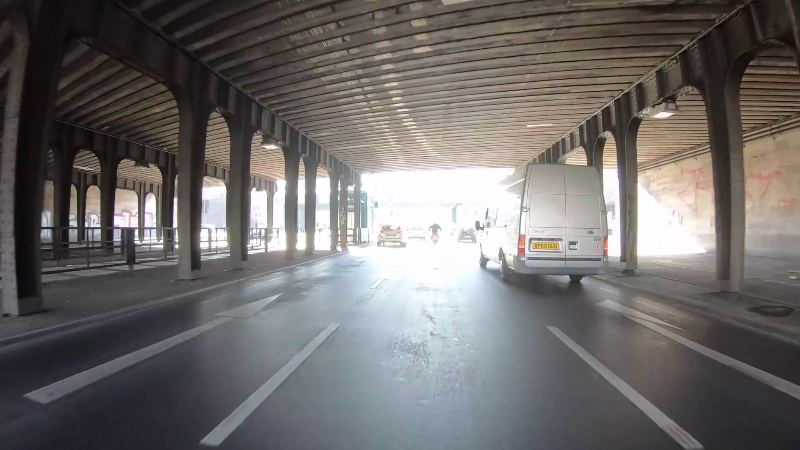Plate: (530, 240, 561, 249)
